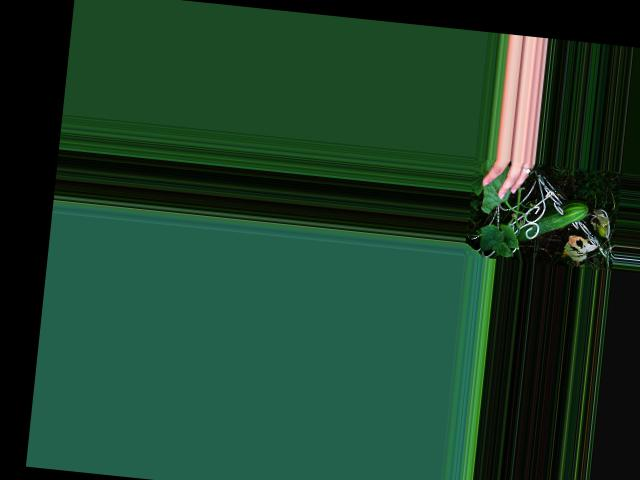cucumber: (514, 193, 588, 248)
